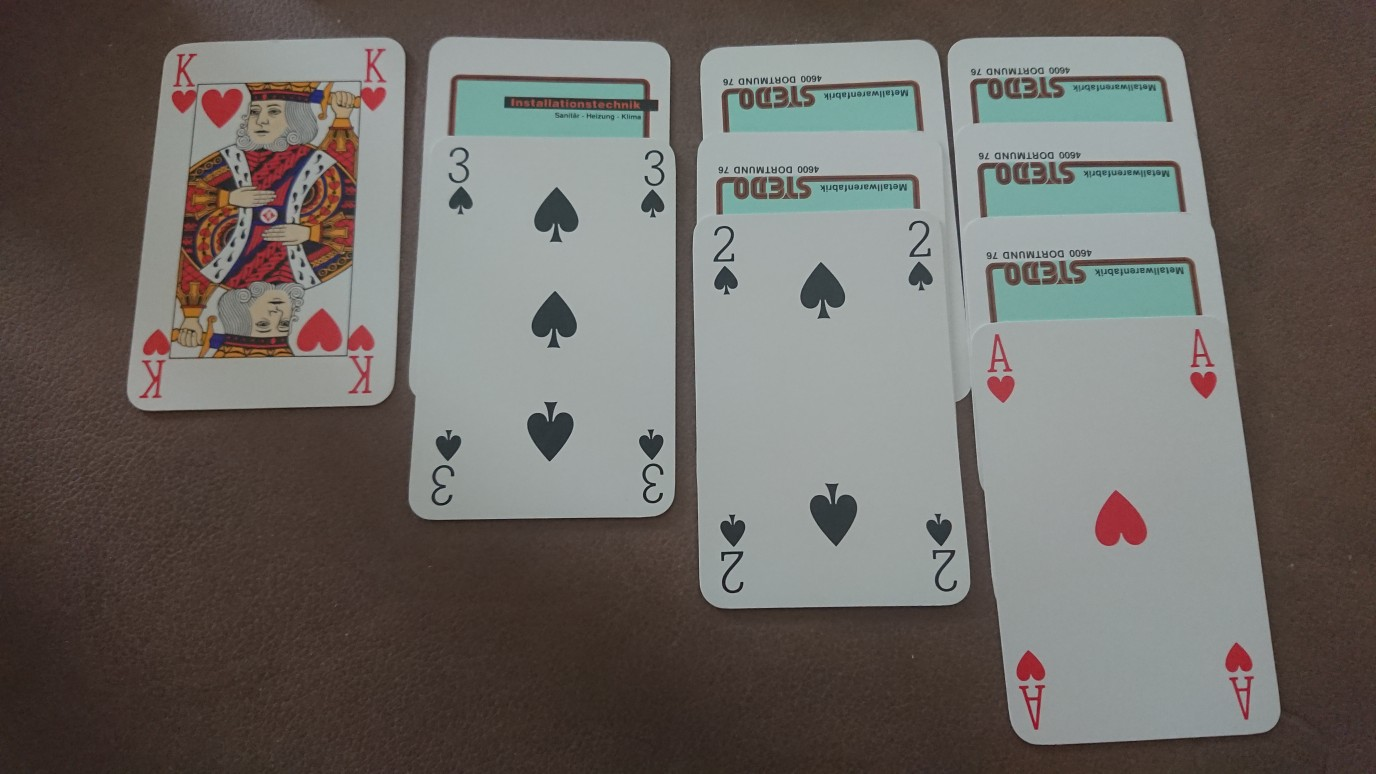2S: (900, 212, 940, 296), (709, 218, 742, 298)
3S: (444, 145, 480, 218), (635, 147, 671, 220)
AH: (1182, 325, 1223, 404), (983, 326, 1019, 407)
BACK: (960, 213, 1229, 319), (422, 35, 671, 140), (698, 36, 948, 134), (953, 123, 1211, 215), (948, 34, 1198, 124), (695, 133, 944, 213)
KH: (355, 43, 393, 113), (170, 46, 201, 117)
